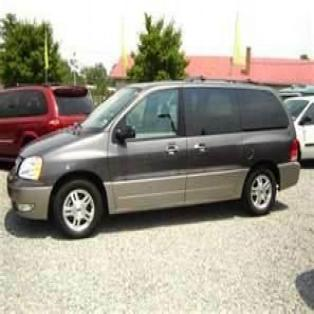Auto: (6, 78, 302, 244)
